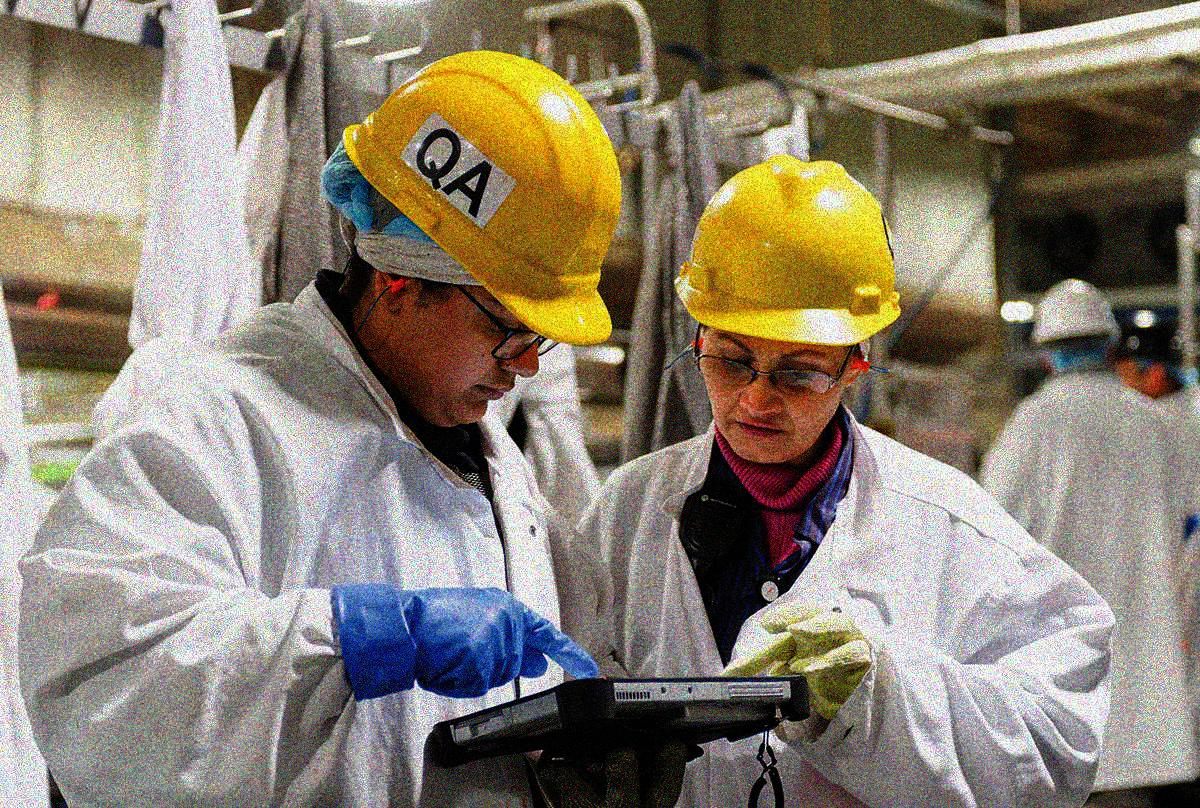helmet: (328, 45, 618, 436), (672, 154, 904, 458), (1030, 279, 1121, 373), (1116, 303, 1186, 397)
